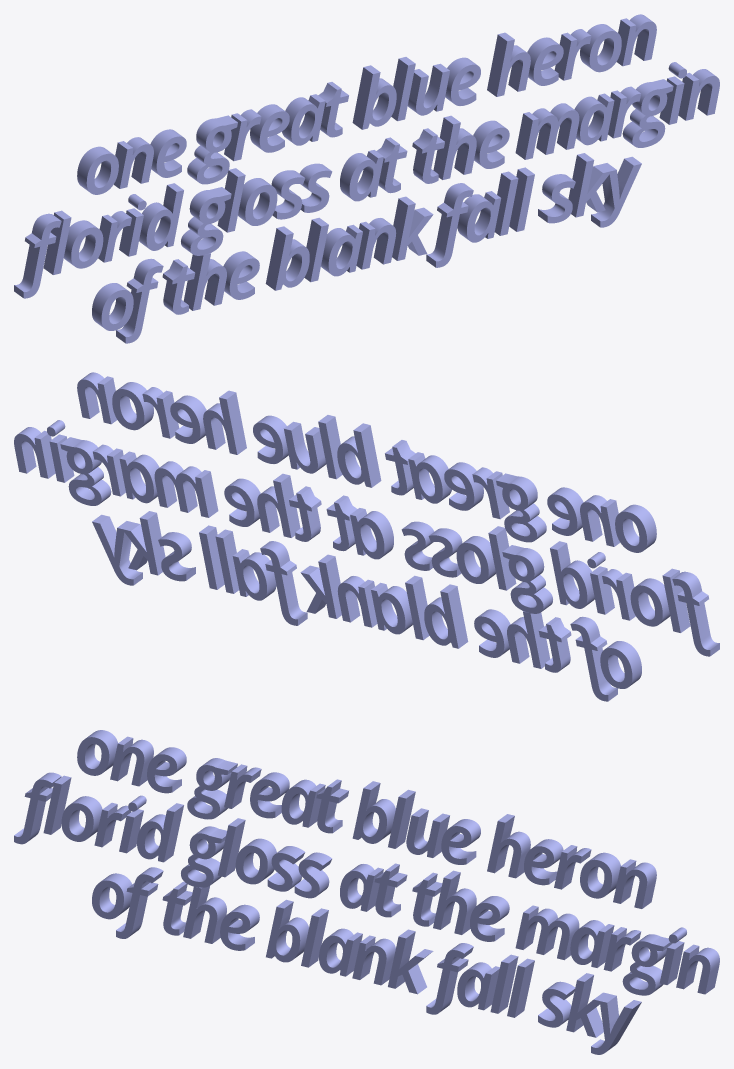
File: haiku3.gltf
The picture shows the model from 3 angles, top to bottom: view 1: azimuth 30°, elevation 25°; view 2: azimuth 150°, elevation 25°; view 3: azimuth 330°, elevation 25°; orthographic projection.
Parts seen in each view (by area): view 1: a (×5), e (×6), o (×5), g (×3), n (×4), l (×6), h (×3), f (×3), t (×4), b (×2), r (×4), k (×2) (+6 smaller); view 2: a (×5), e (×6), o (×5), g (×3), n (×4), l (×6), h (×3), f (×3), t (×4), b (×2), r (×4), k (×2) (+6 smaller); view 3: e (×6), a (×5), o (×5), n (×4), g (×3), l (×6), h (×3), t (×4), f (×3), s (×3), b (×2), r (×4) (+6 smaller).
Boxes of the visible parts, x1,y1,x2,y2 form: a (×5): (282,93,614,276); e (×6): (150,37,563,299); o (×5): (63,24,621,330); g (×3): (181,79,673,255); n (×4): (114,14,719,269); l (×6): (43,57,534,282); h (×3): (183,32,530,310); f (×3): (14,183,473,343); t (×4): (162,82,444,314); b (×2): (265,65,396,290); r (×4): (98,29,640,262); k (×2): (392,153,611,260); a (×5): (119,451,451,634); e (×6): (170,395,583,657); o (×5): (112,382,670,688); g (×3): (60,437,552,613); n (×4): (14,372,619,627); l (×6): (199,415,690,640); h (×3): (203,390,550,668); f (×3): (260,541,719,701); t (×4): (289,440,571,672); b (×2): (337,423,468,648); r (×4): (93,387,635,620); k (×2): (122,511,341,618); e (×6): (147,747,563,950); a (×5): (281,779,614,1010); o (×5): (61,730,620,919); n (×4): (110,736,719,994); g (×3): (181,758,672,995); l (×6): (43,775,534,1017); h (×3): (183,814,530,943); t (×4): (162,779,442,935); f (×3): (14,772,473,1014); s (×3): (267,846,575,1027); b (×2): (266,781,395,962); r (×4): (94,764,641,971).
Size of the model in its own units: 2.09 by 0.6 by 0.05.
